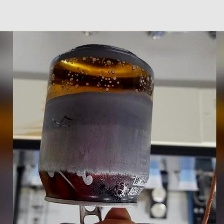can: (35, 37, 161, 213)
